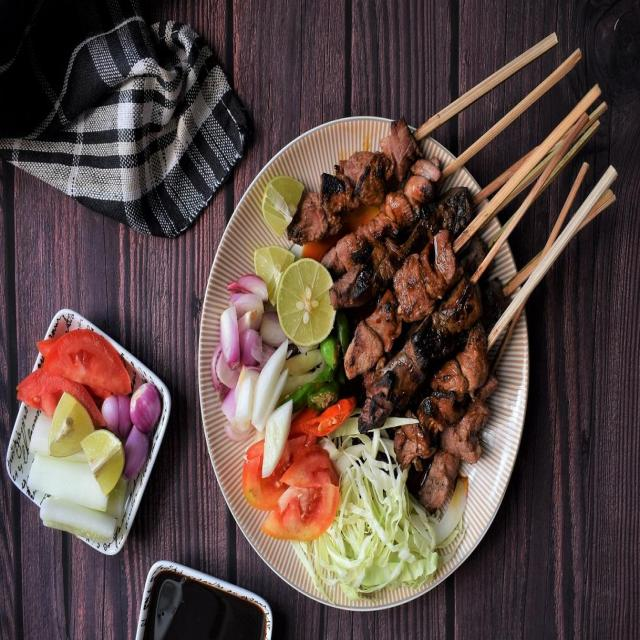Sate: (312, 33, 595, 488)
